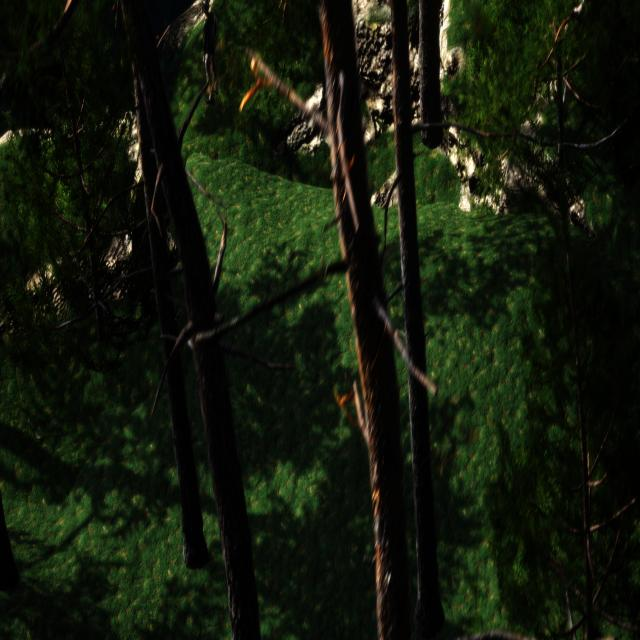Human: (202, 0, 223, 105)
